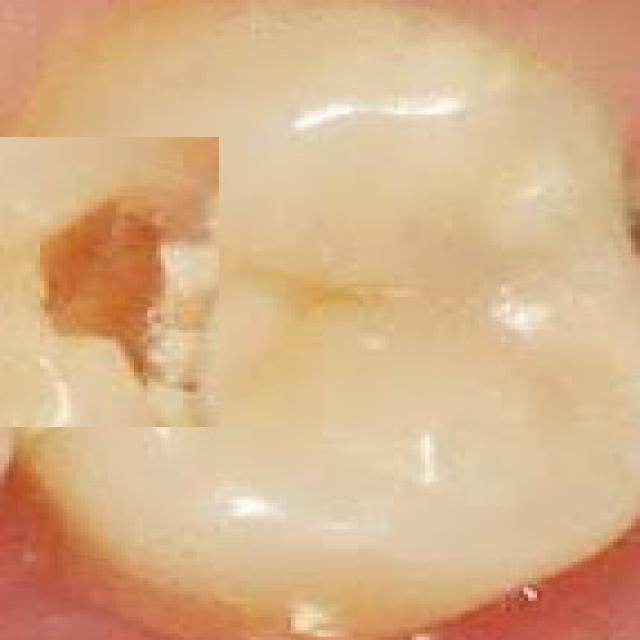decay: (0, 137, 219, 427)
